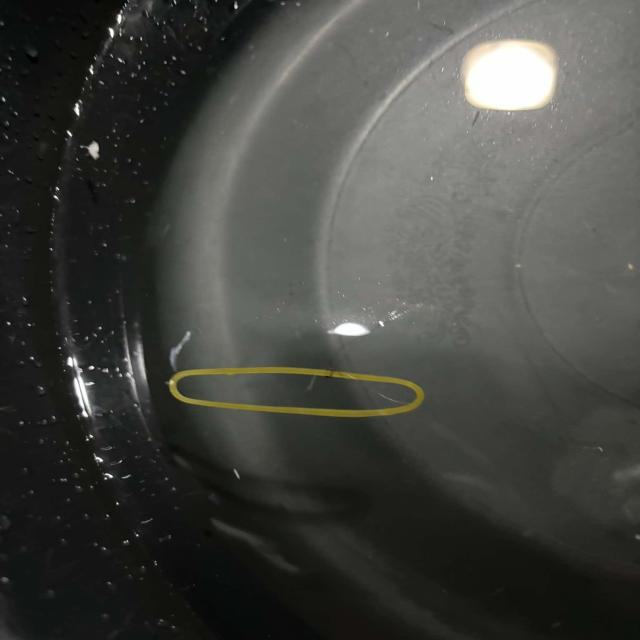Rubberband: (117, 311, 474, 456)
